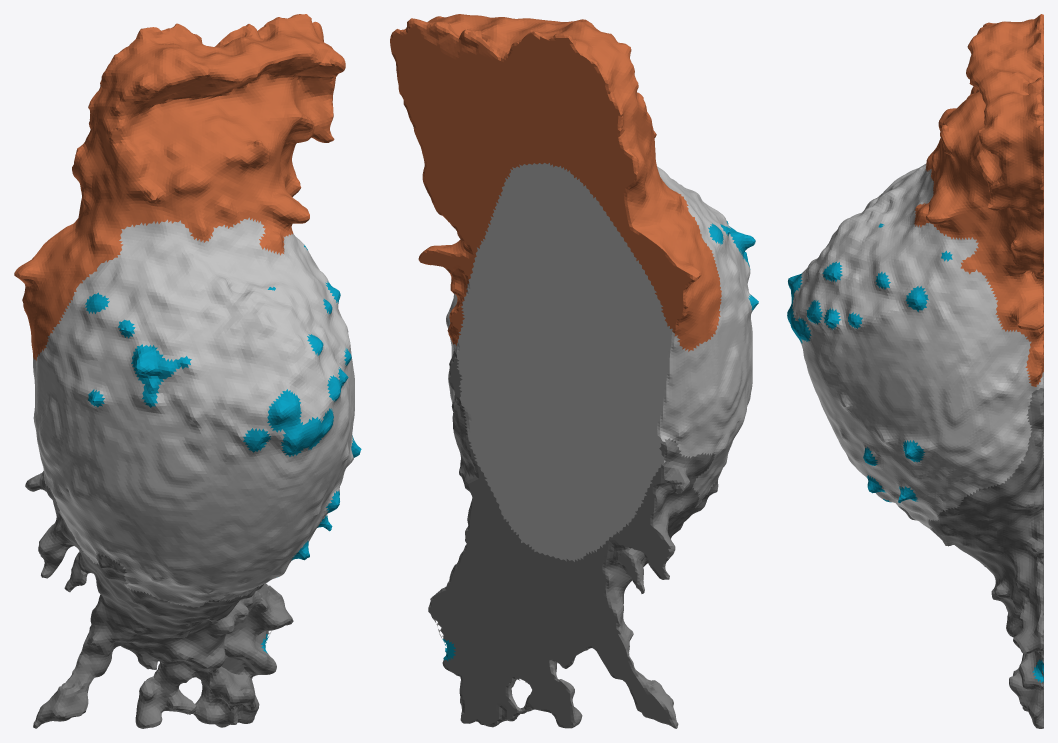
3 renders of one model, left to right at view 1: azimuth 30°, elevation 25°; view 2: azimuth 150°, elevation 25°; view 3: azimuth 270°, elevation 25°, orthographic. The views are drawn at different scales.
Bounding box in the file's own units: 86.23 × 191 × 66.53.
